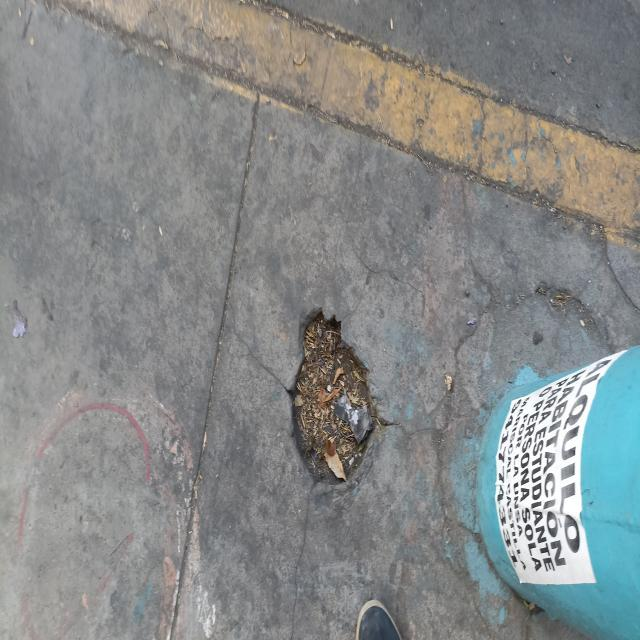hole: (285, 306, 379, 492)
